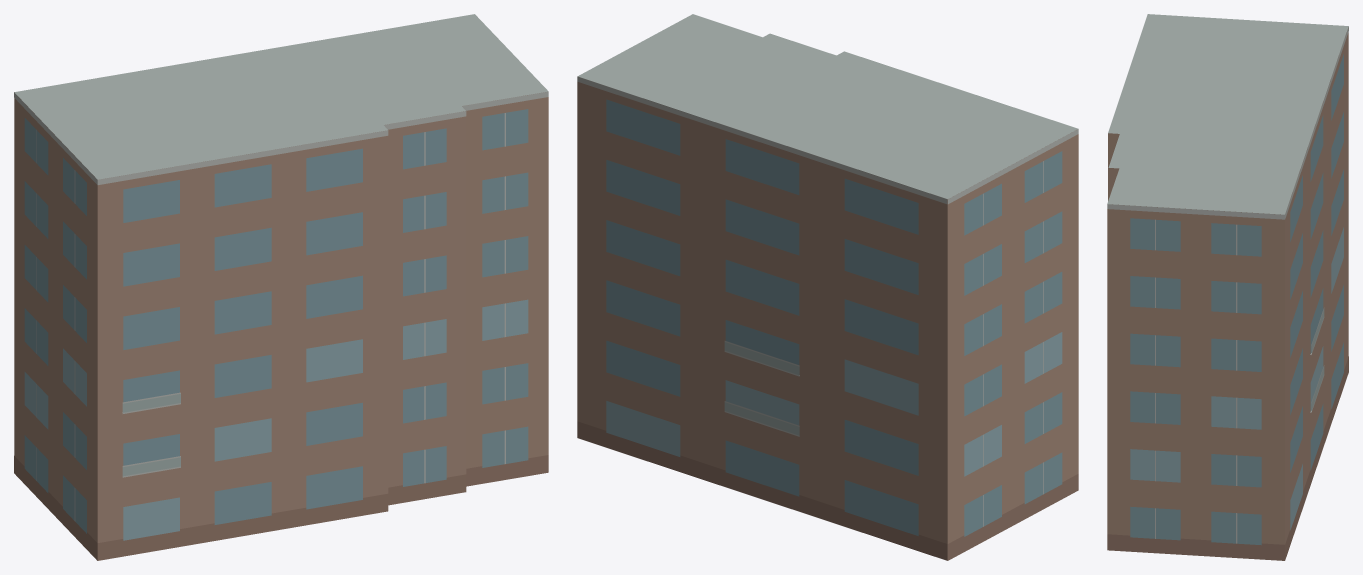
File: survey-upis-32958406.glb
3 views of the same model, side by side, from view 1: azimuth 30°, elevation 25°; view 2: azimuth 150°, elevation 25°; view 3: azimuth 270°, elevation 25° (orthographic). The views are drawn at different scales.
Parts seen in each view (by area): view 1: survey-upis-32958406.tmp; view 2: survey-upis-32958406.tmp; view 3: survey-upis-32958406.tmp.
Boxes of the visible parts, bbox=[...] form: survey-upis-32958406.tmp: bbox=[14, 14, 548, 560]; survey-upis-32958406.tmp: bbox=[577, 14, 1078, 560]; survey-upis-32958406.tmp: bbox=[1107, 14, 1348, 560].
Size of the model in its own units: 21.14 by 17 by 10.76.
